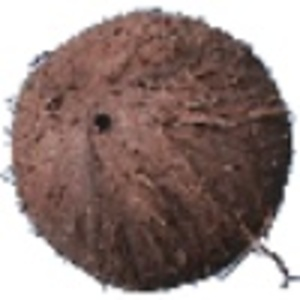coco: (1, 7, 300, 293)
